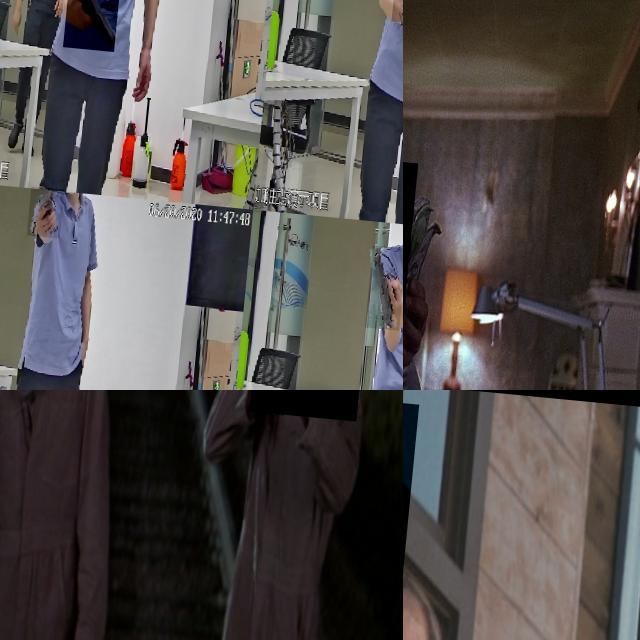gun-knife-thesis - v11 Yolov5 augmented: (403, 145, 479, 369), (403, 391, 458, 640), (255, 390, 375, 479), (66, 0, 122, 48), (374, 236, 403, 320), (34, 184, 71, 236)
